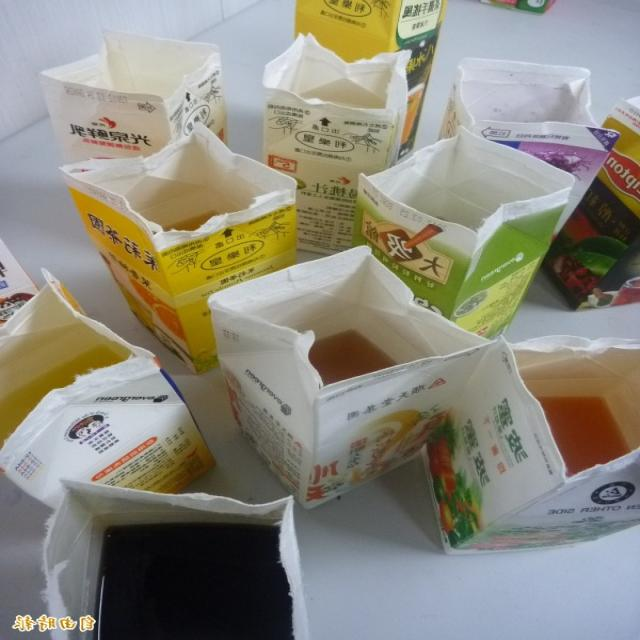cardboard: (355, 60, 640, 322), (216, 249, 474, 503), (72, 133, 300, 359), (0, 276, 205, 512), (426, 336, 640, 554), (40, 474, 312, 640), (265, 0, 433, 245), (38, 32, 228, 160)
